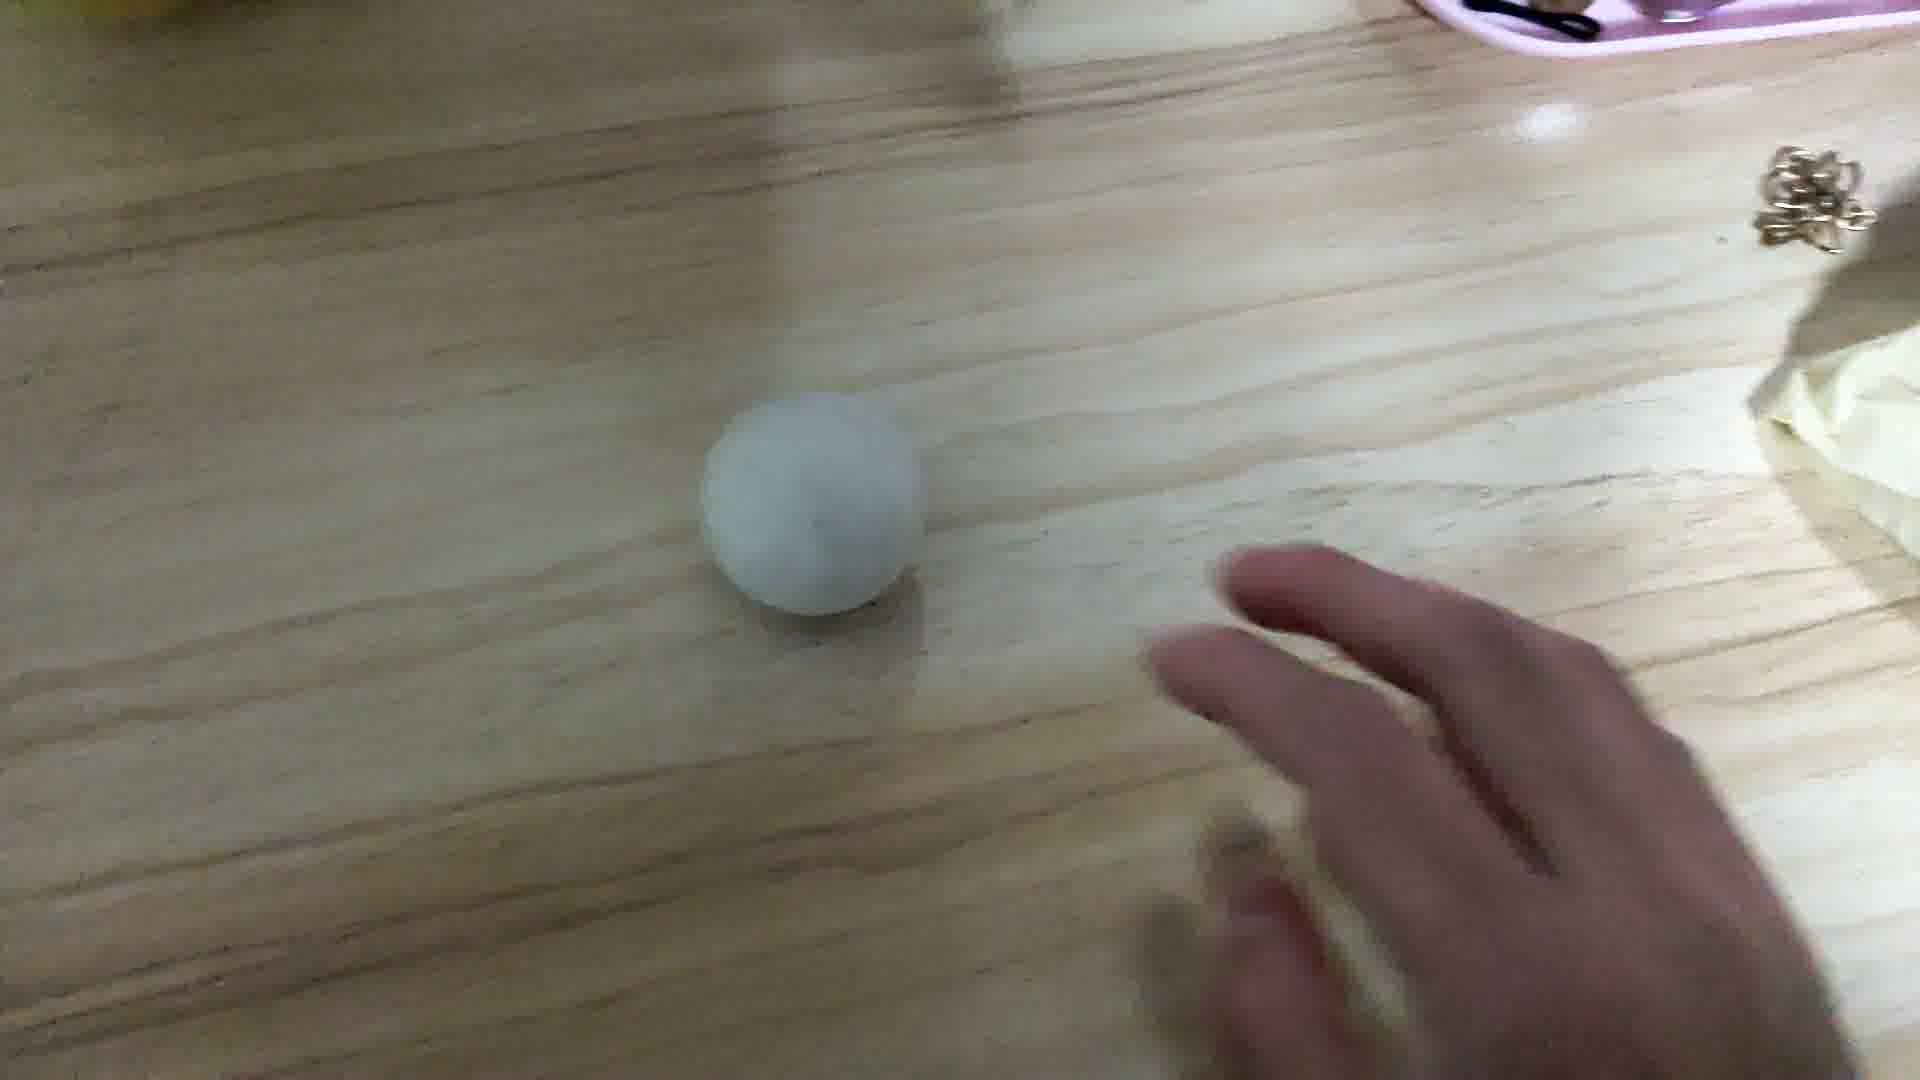Ball: (702, 390, 924, 621)
